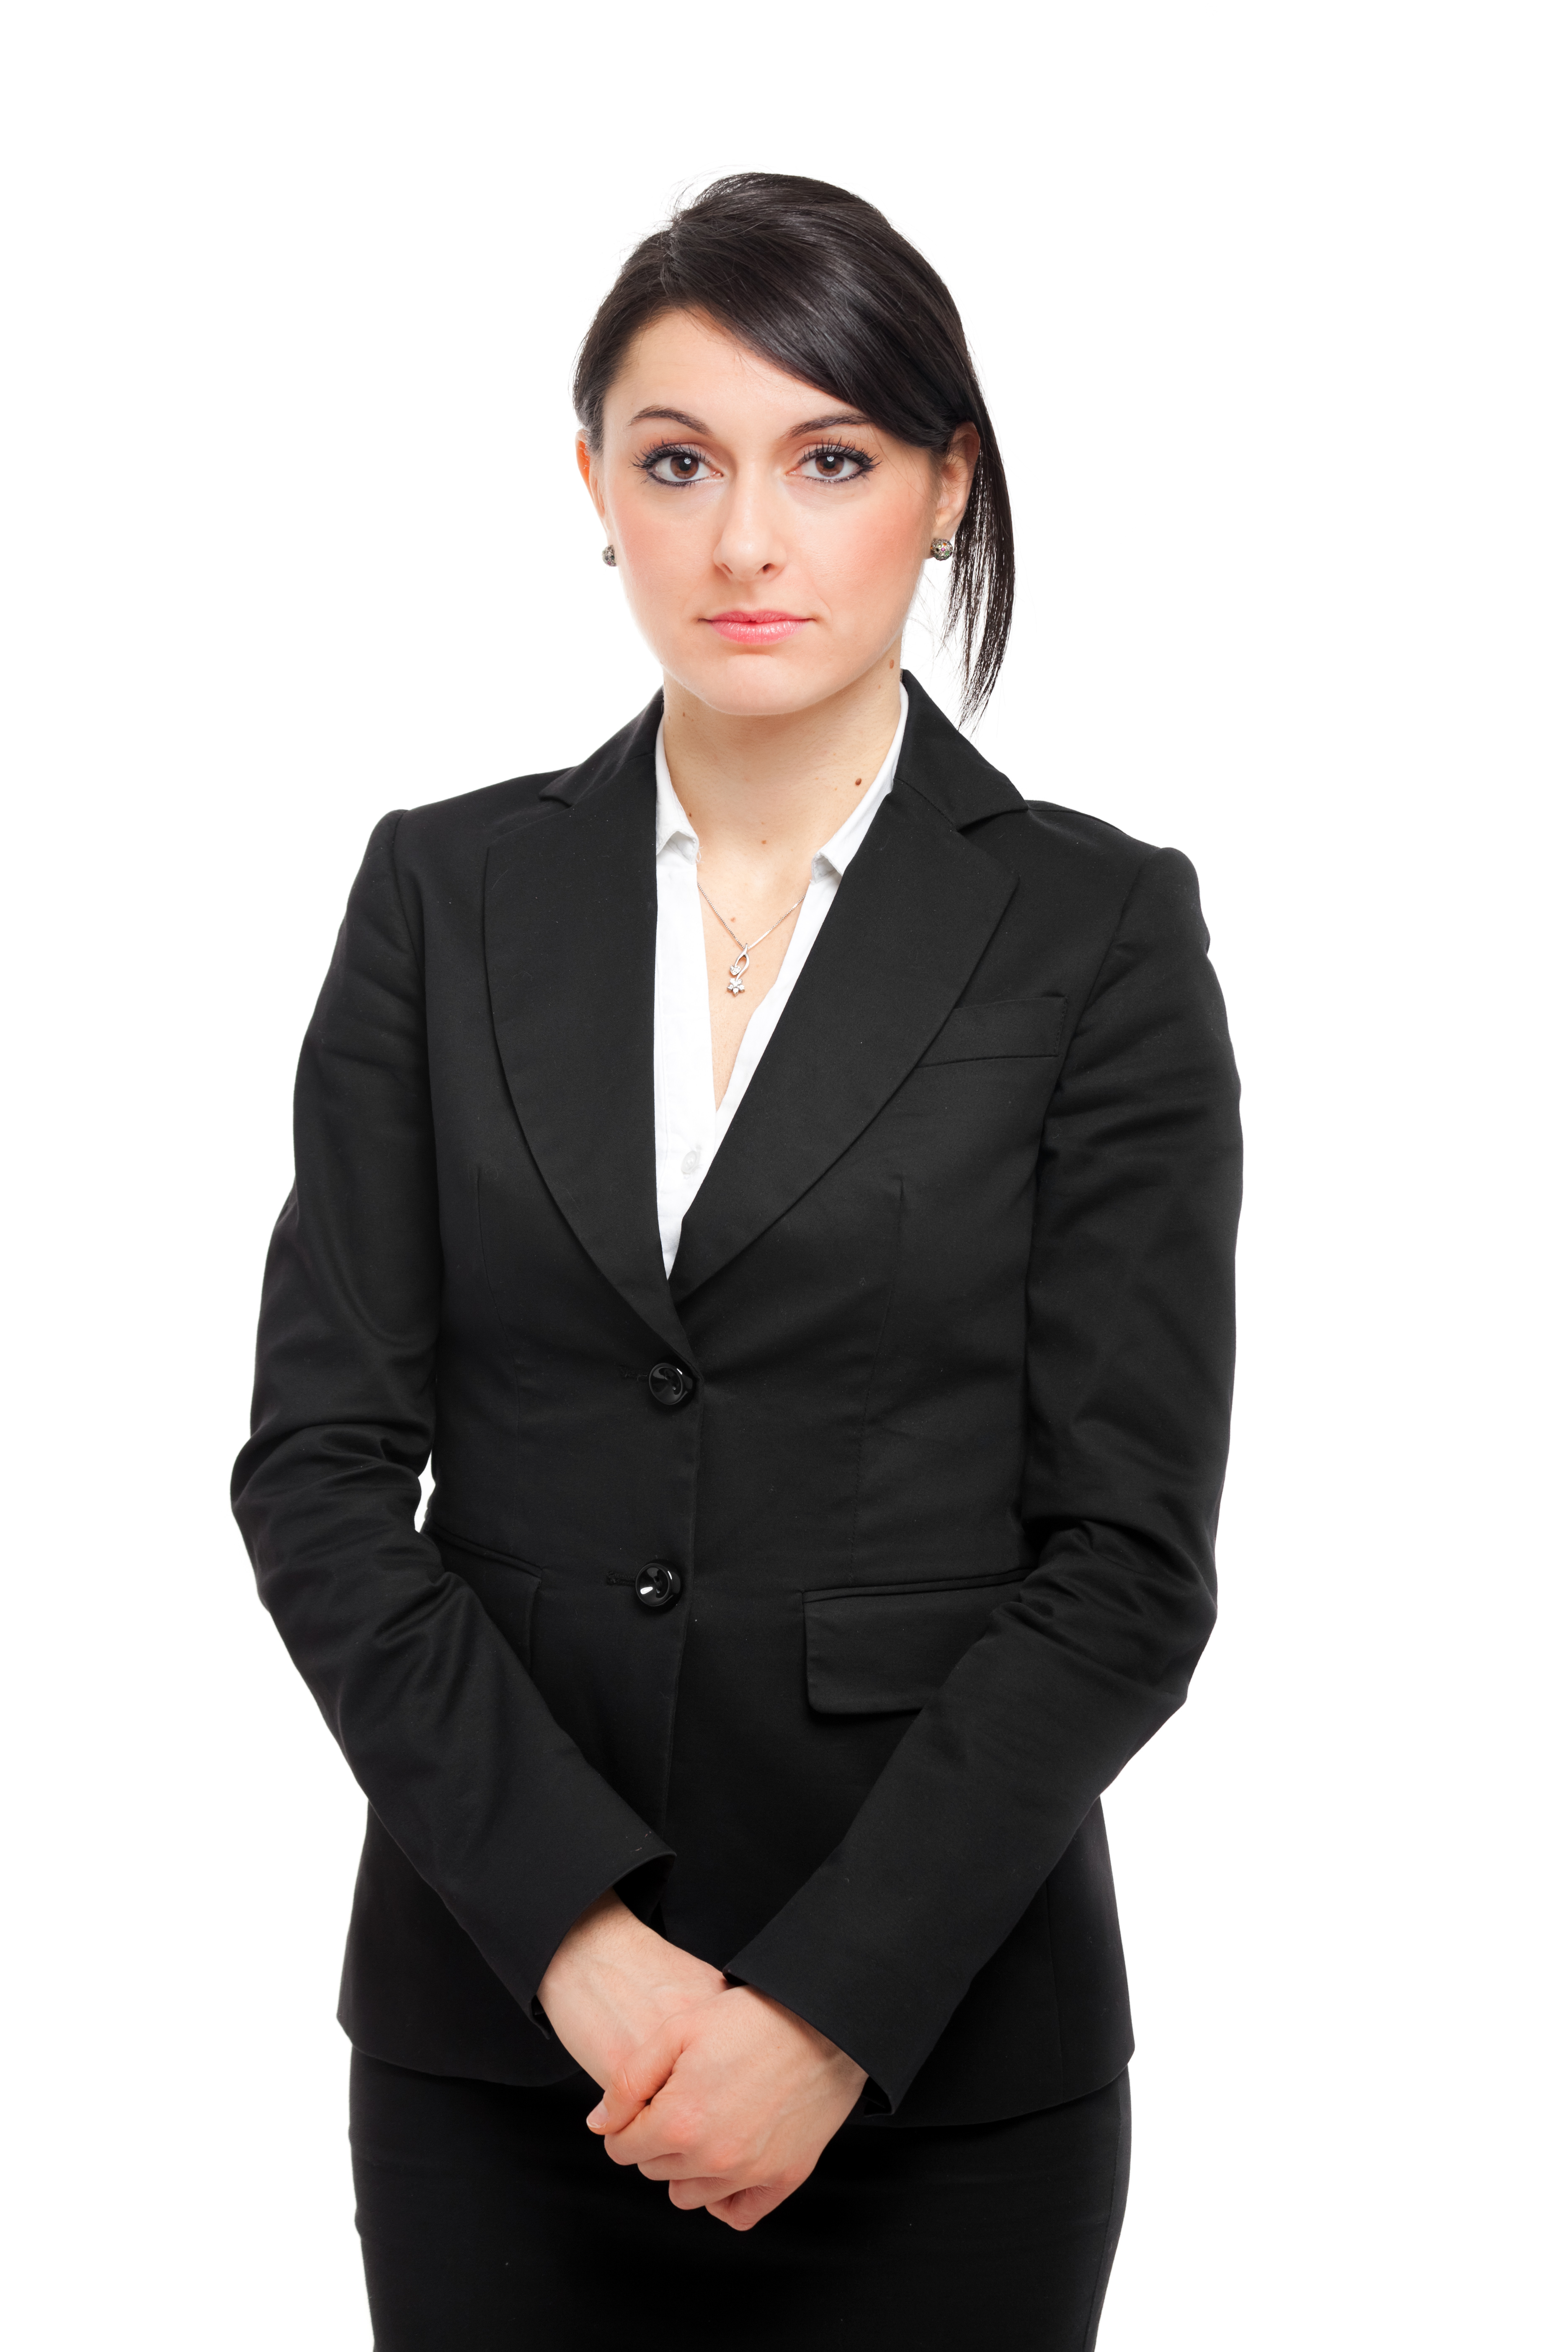face: (573, 170, 1013, 718)
